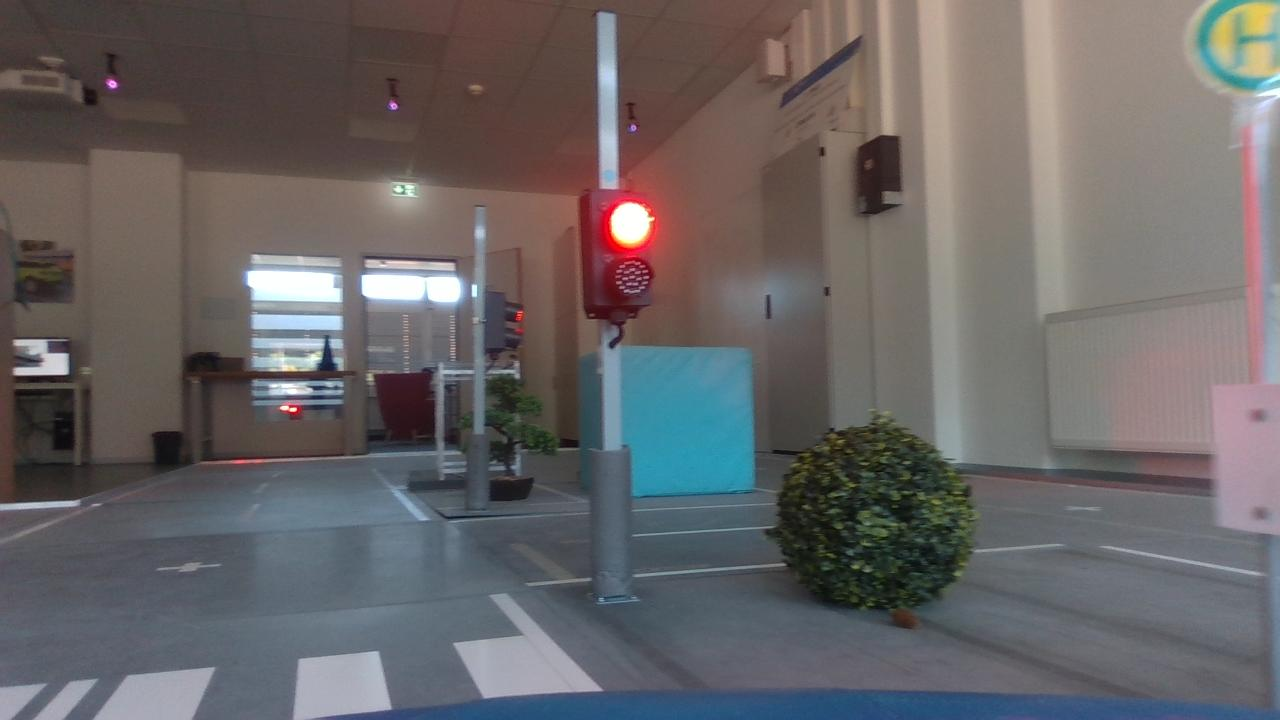traffic_light_red: (565, 173, 664, 330)
